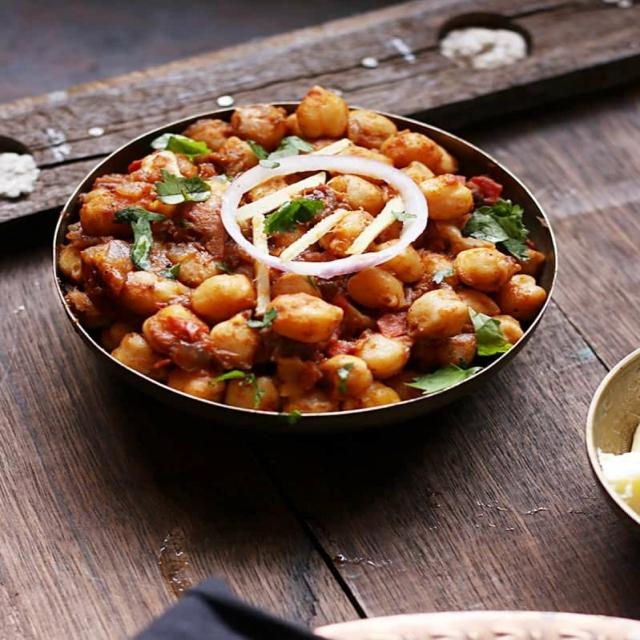Chole: (57, 87, 546, 414)
